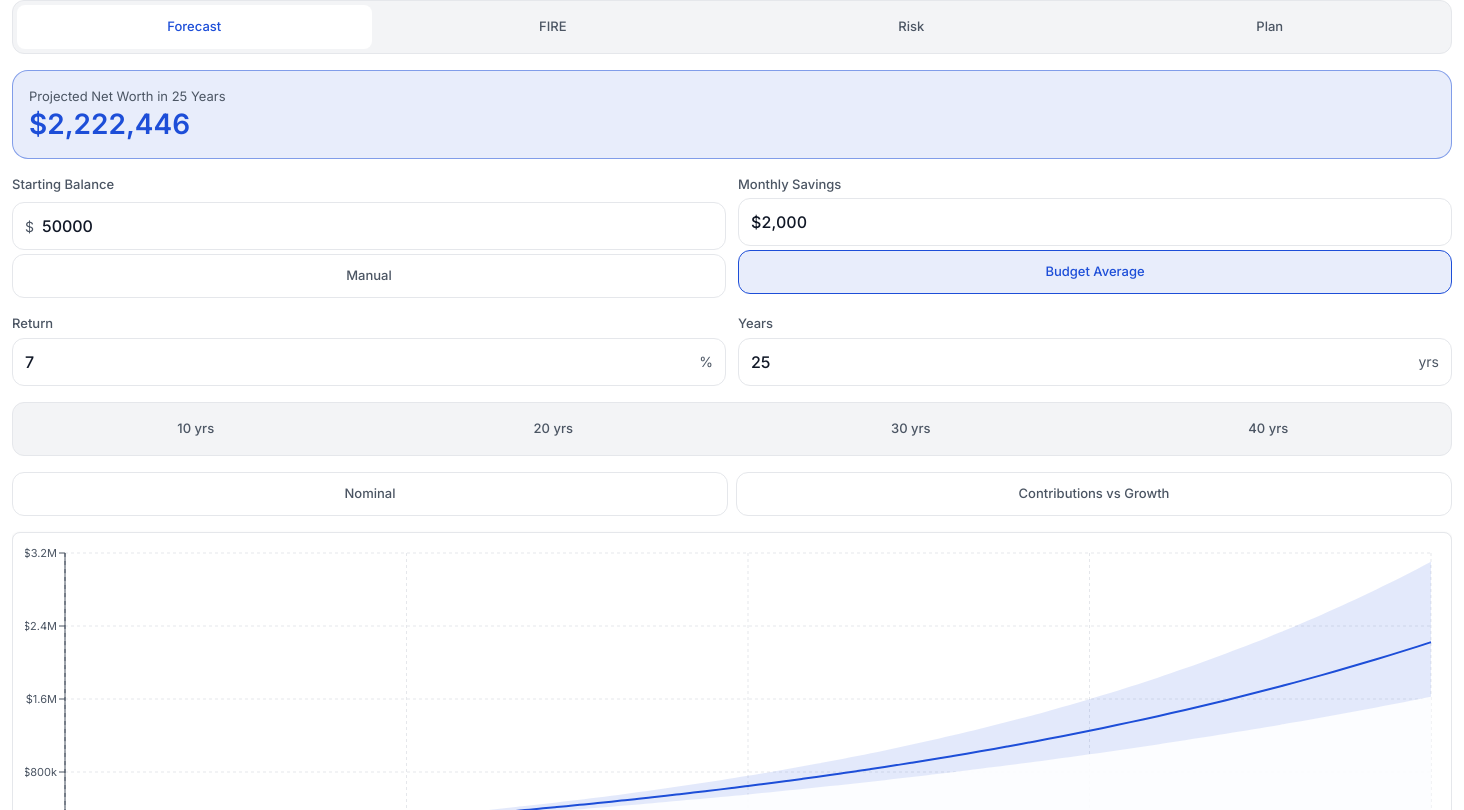
Test: opens on the forecast with the headline figure and year presets
Check: the text "Projected Net Worth in 25 Years" is shown, box x1=29 y1=87 x2=226 y2=106
Click the button "30 yrs". click: [911, 428]
box: x1=732 y1=406 x2=1090 y2=450
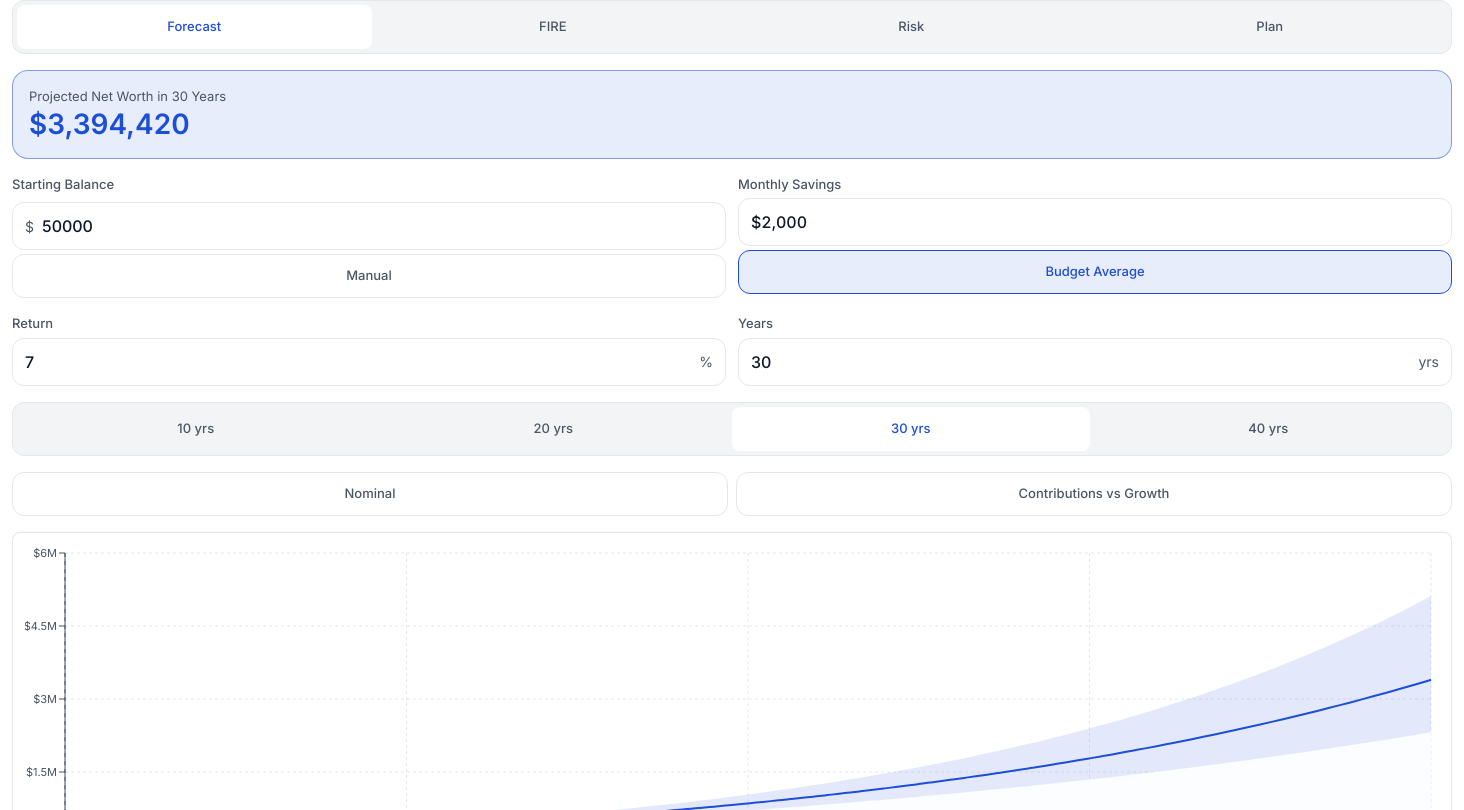
Check: the text "Projected Net Worth in 30 Years" is shown, box x1=29 y1=87 x2=226 y2=106
